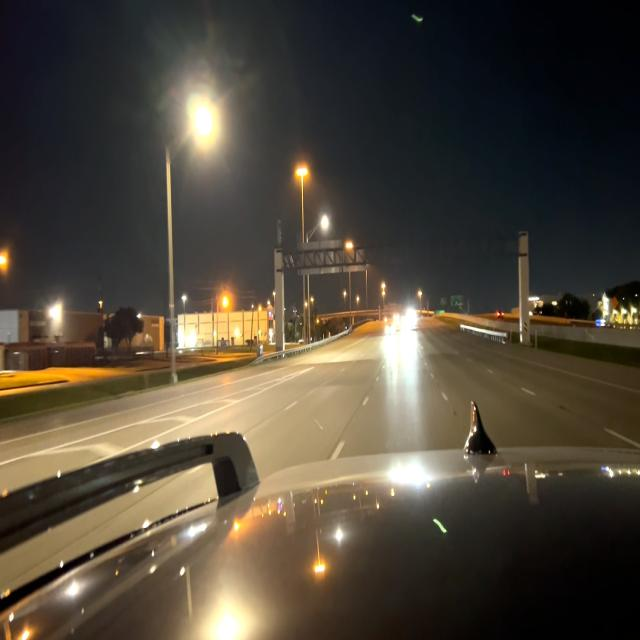back-of-sign: (296, 242, 369, 275)
